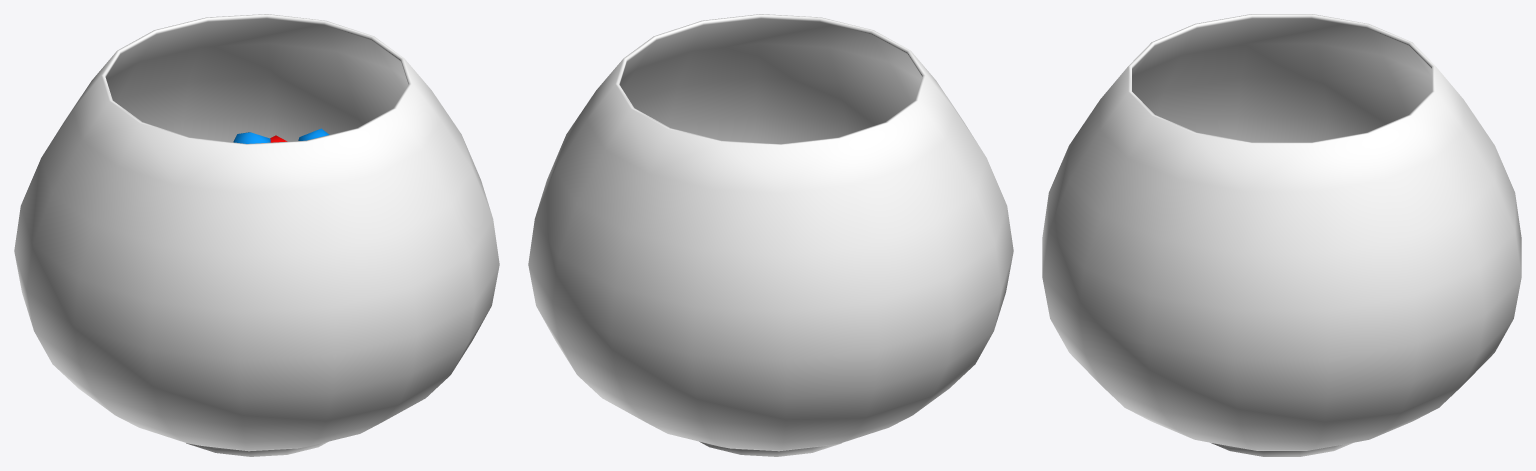
The model's file is glass_vase.FBX.
The picture shows the model from 3 angles, left to right: view 1: azimuth 30°, elevation 25°; view 2: azimuth 150°, elevation 25°; view 3: azimuth 270°, elevation 25°; orthographic projection.
Visible parts, largest first — view 1: glass_vase, glass_balls; view 2: glass_vase; view 3: glass_vase.
Part boxes in pixels (x1=…): glass_vase: x1=14, y1=14, x2=499, y2=456; glass_balls: x1=233, y1=128, x2=329, y2=143; glass_vase: x1=528, y1=14, x2=1013, y2=456; glass_vase: x1=1042, y1=14, x2=1521, y2=456.
Bounding box in the file's own units: 16.08 × 12.56 × 16.08.
